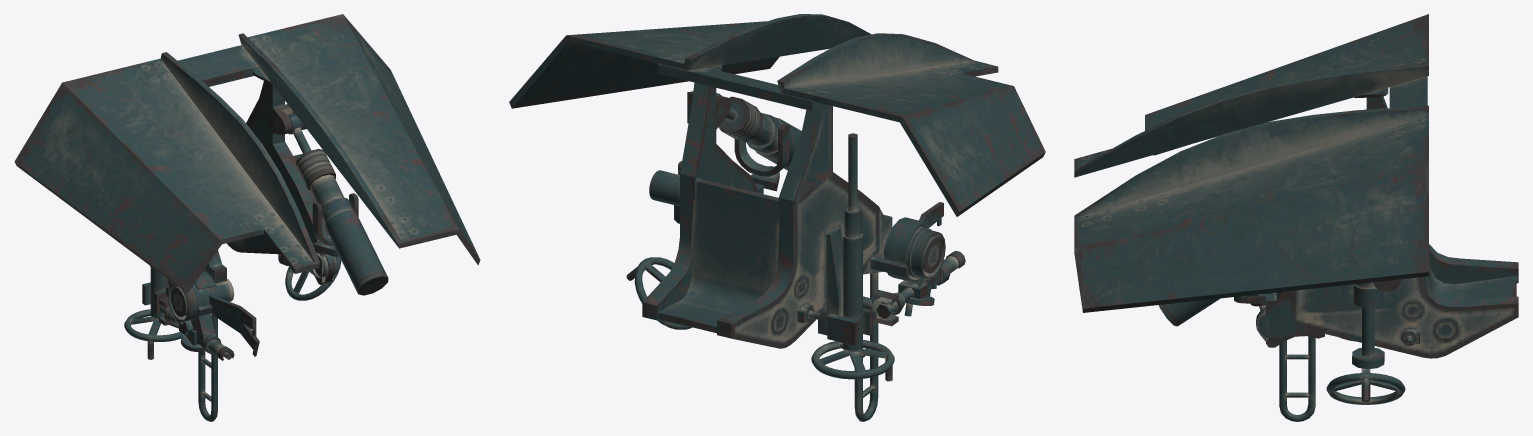
File: Turret_01.glb
3 renders of one model, left to right at view 1: azimuth 30°, elevation 25°; view 2: azimuth 150°, elevation 25°; view 3: azimuth 270°, elevation 25°, orthographic. The views are drawn at different scales.
Visible parts, largest first — view 1: set_0_group_0; view 2: set_0_group_0; view 3: set_0_group_0.
Part boxes in pixels (box(x1,y1,x2,y2)): set_0_group_0: box(14, 14, 480, 421); set_0_group_0: box(509, 14, 1045, 421); set_0_group_0: box(1074, 14, 1518, 421).
Size of the model in its own units: 1.59 by 1.3 by 1.44.
Materials: 1 (1 with a texture image).
